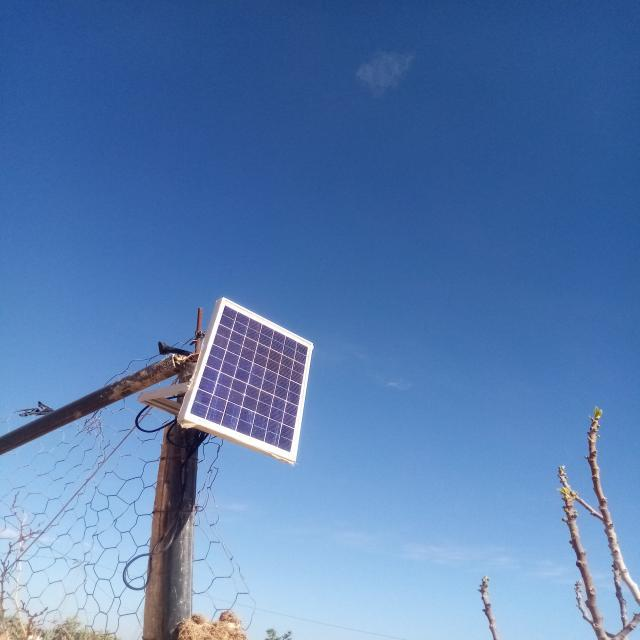no faulty: (183, 298, 314, 463)
